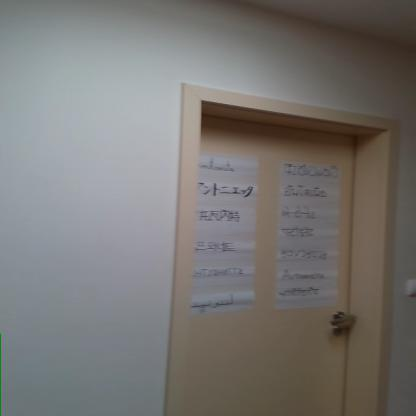door: (201, 120, 358, 415)
lever: (328, 314, 360, 325)
